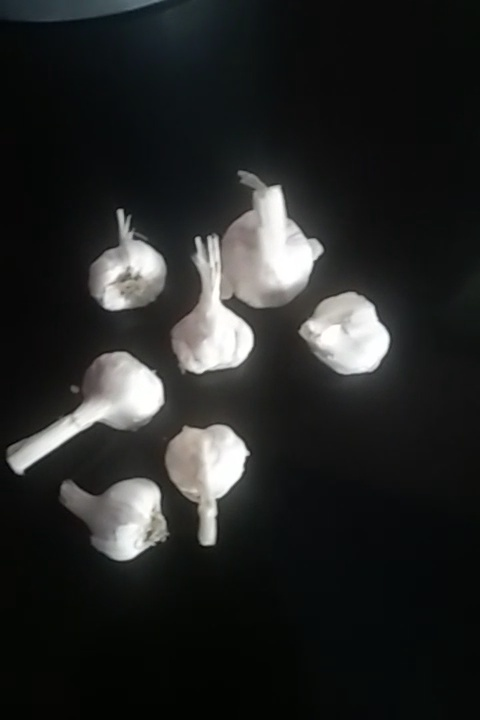garlic: (11, 354, 168, 467), (158, 422, 249, 552), (213, 190, 311, 310), (66, 466, 180, 563), (299, 297, 412, 377), (83, 226, 170, 309), (175, 302, 272, 372)
